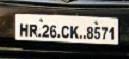1: (108, 25, 114, 40)
2: (40, 23, 48, 37)
5: (93, 25, 100, 38)
6: (48, 23, 56, 37)
7: (100, 25, 108, 39)
8: (84, 25, 92, 38)
C: (60, 24, 68, 38)
H: (18, 22, 28, 36)
K: (69, 24, 79, 38)
R: (28, 23, 37, 36)
